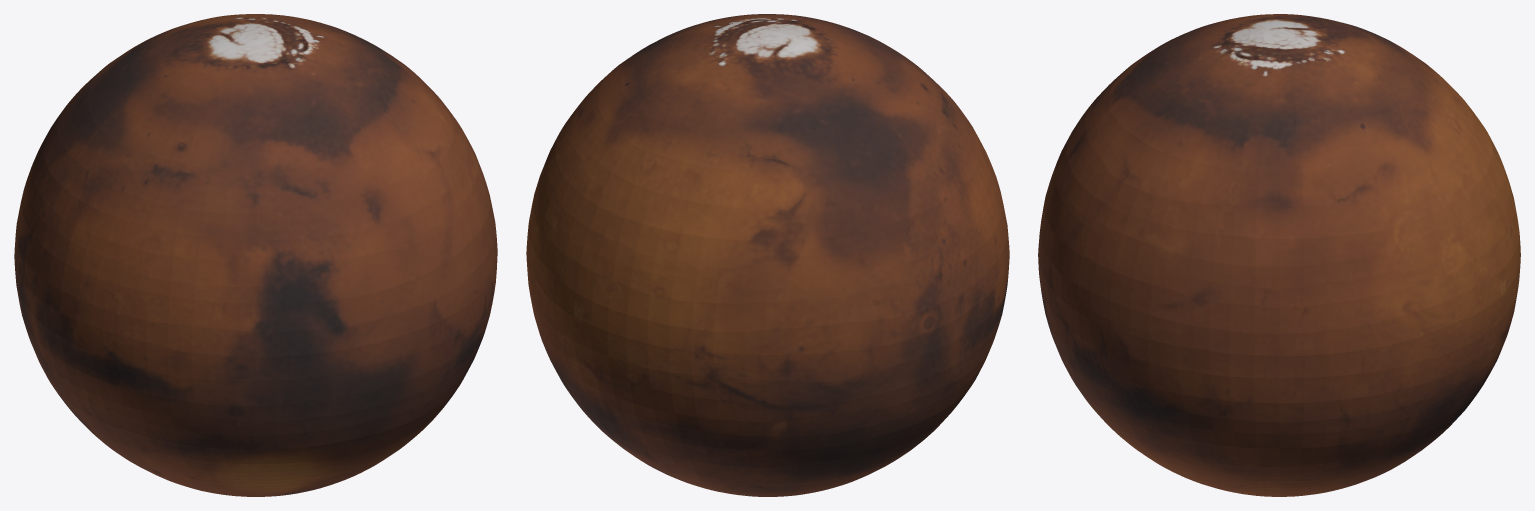
Rendered from Mars.glb.
3 views of the same model, side by side, from view 1: azimuth 30°, elevation 25°; view 2: azimuth 150°, elevation 25°; view 3: azimuth 270°, elevation 25° (orthographic).
Parts seen in each view (by area): view 1: world; view 2: world; view 3: world.
Part boxes in pixels (x1,y1,x2,y2): world: [14, 14, 497, 496]; world: [526, 14, 1009, 496]; world: [1038, 14, 1520, 496].
Bounding box in the file's own units: 1 × 0.9993 × 1.
Materials: 1 (1 with a texture image).
